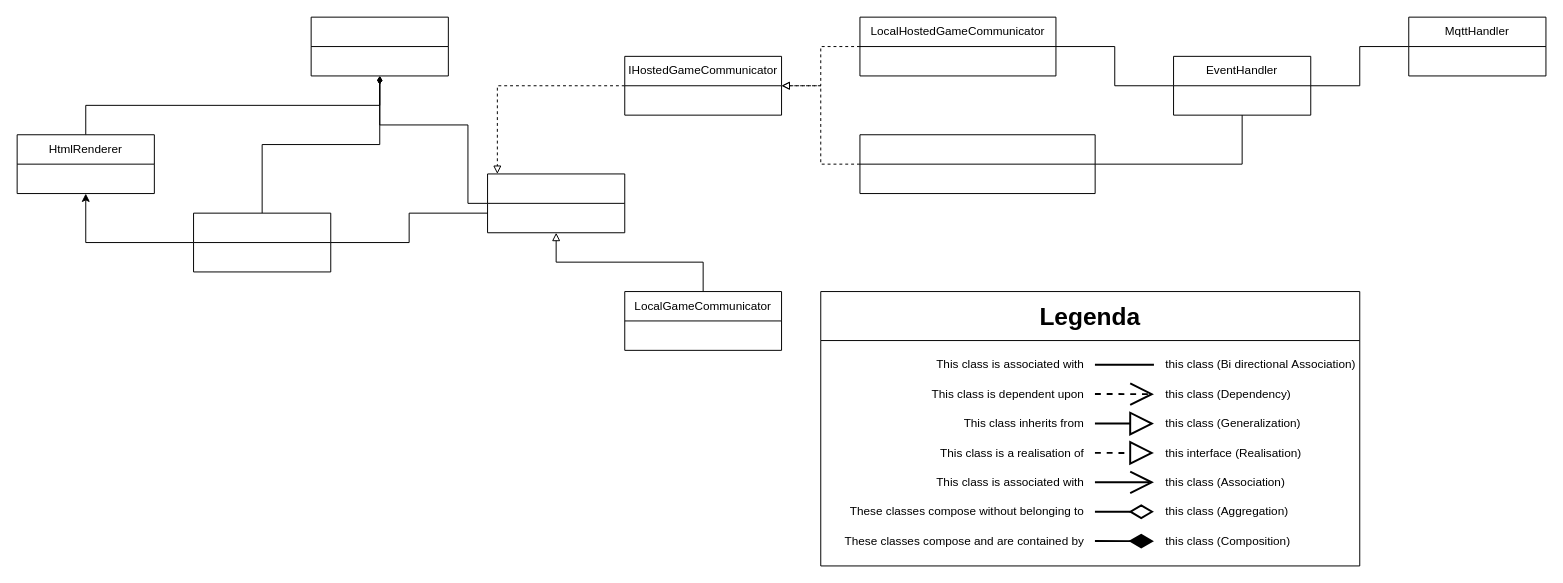
The diagram is 1563 pixels wide and 583 high, and some of its shapes have lost their labels. The centre of each missing label's shape, as x and y in pixels:
"ConnectedHostedGameCommunicator" belongs at pixel 977 164.
"GameClient" belongs at pixel 262 242.
"IGameCommunicator" belongs at pixel 556 203.
"Root" belongs at pixel 379 46.
